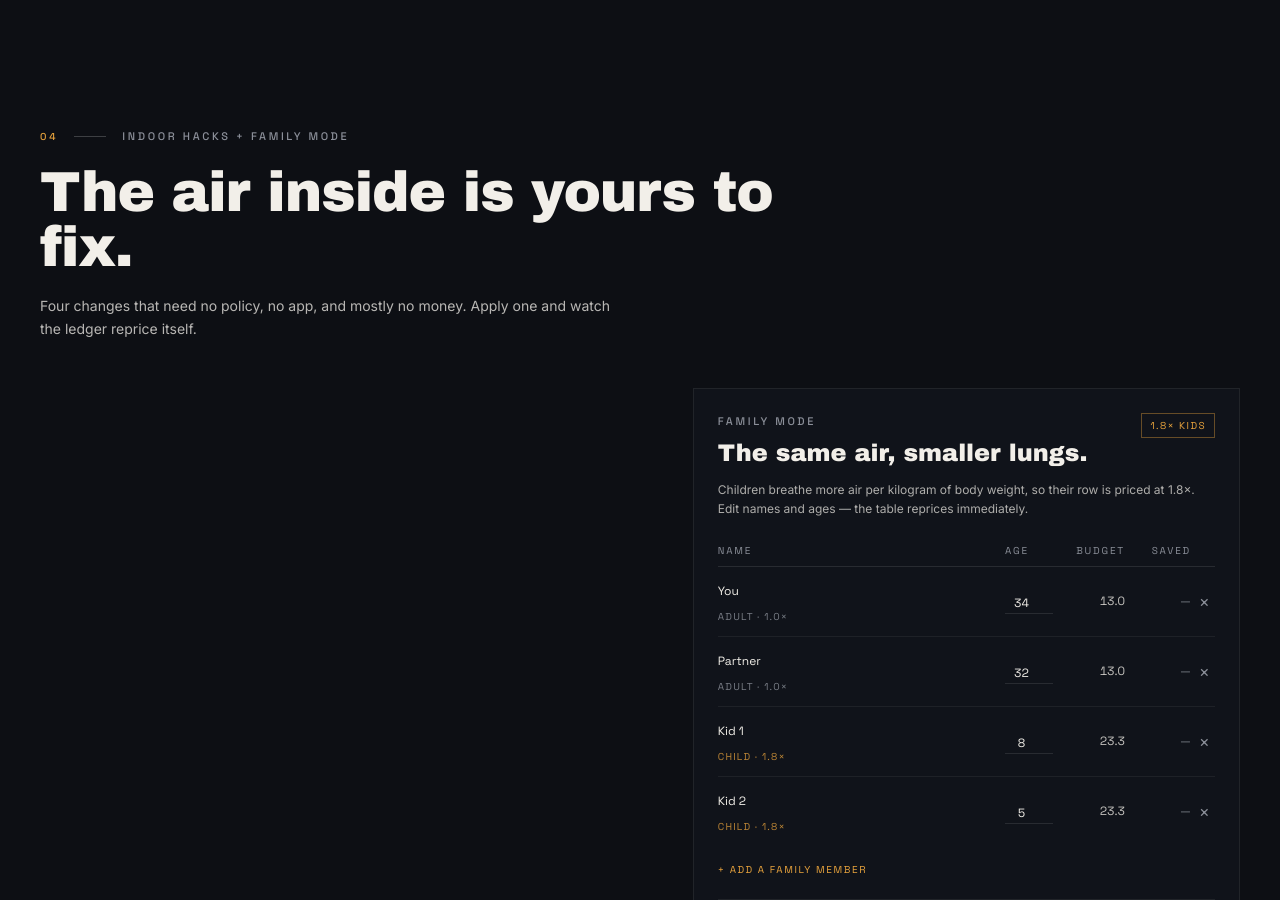
Test case: HacksAct › removes a family member once the exit animation finishes
This screenshot has width=1280, height=900.
Click the button named "Remove Kid 2".
click(1204, 811)  # box [1199,799,1210,823]
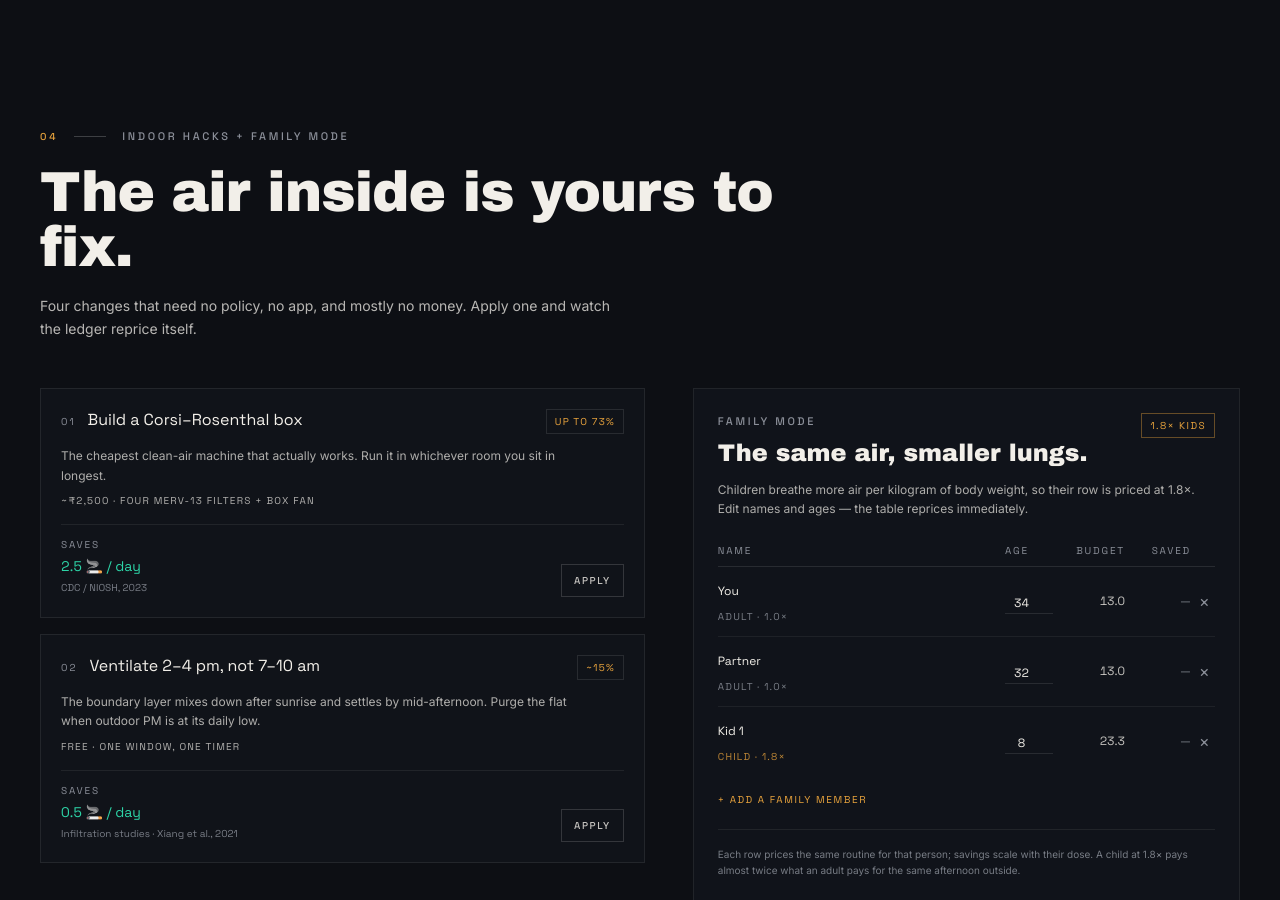
Expected: the number of fields named "Family member name" is 3, [718,581,997,602]; [718,651,997,672]; [718,721,997,742]
